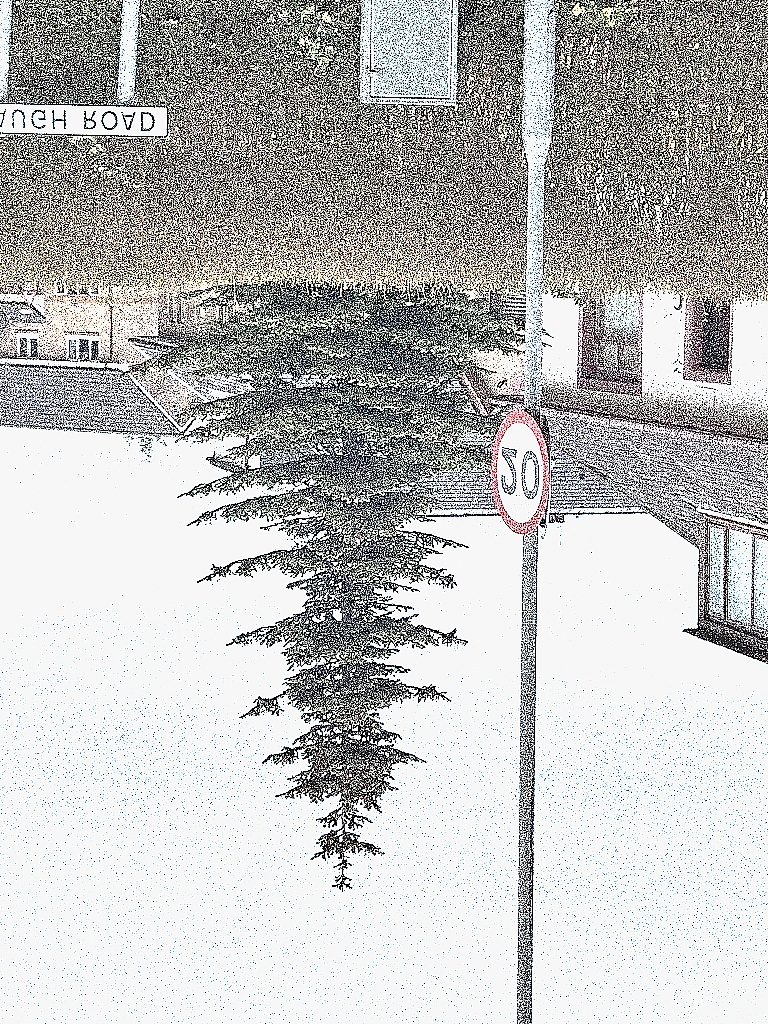Tree: (112, 284, 558, 900)
